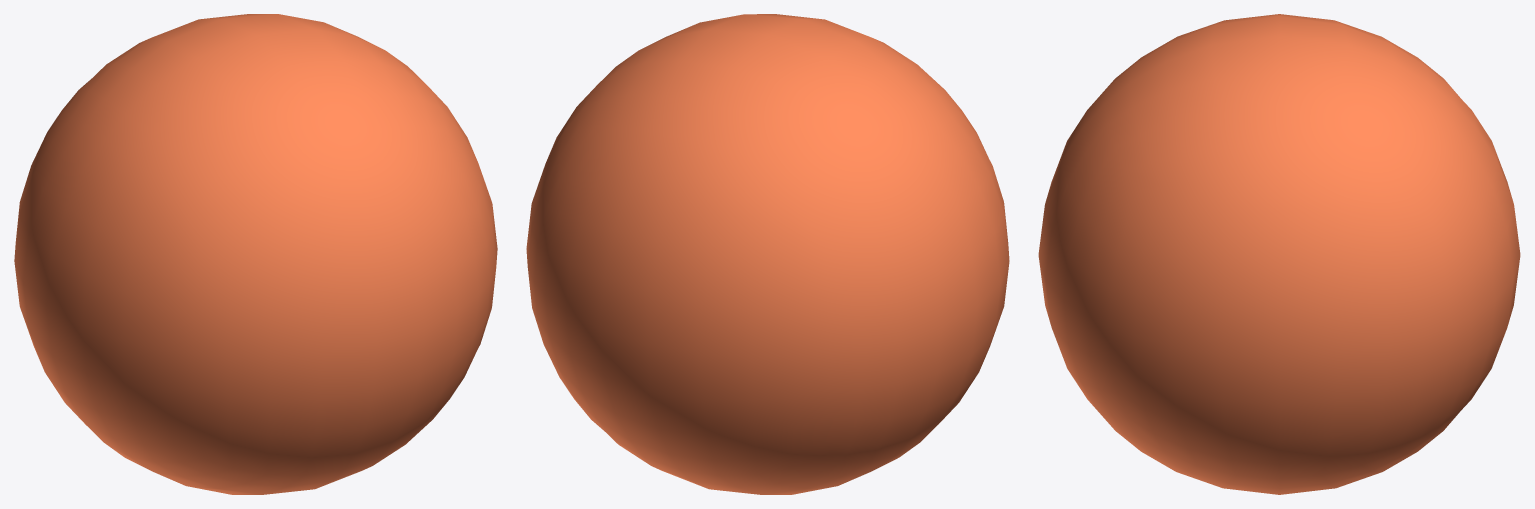
Rendered from Orange.fbx.
The picture shows the model from 3 angles, left to right: view 1: azimuth 30°, elevation 25°; view 2: azimuth 150°, elevation 25°; view 3: azimuth 270°, elevation 25°; orthographic projection.
Visible parts, largest first — view 1: Orange; view 2: Orange; view 3: Orange.
Boxes of the visible parts, x1,y1,x2,y2 form: Orange: (14, 14, 497, 494); Orange: (526, 14, 1009, 494); Orange: (1038, 14, 1520, 494).
Size of the model in its own units: 0.2228 by 0.2228 by 0.2228.
